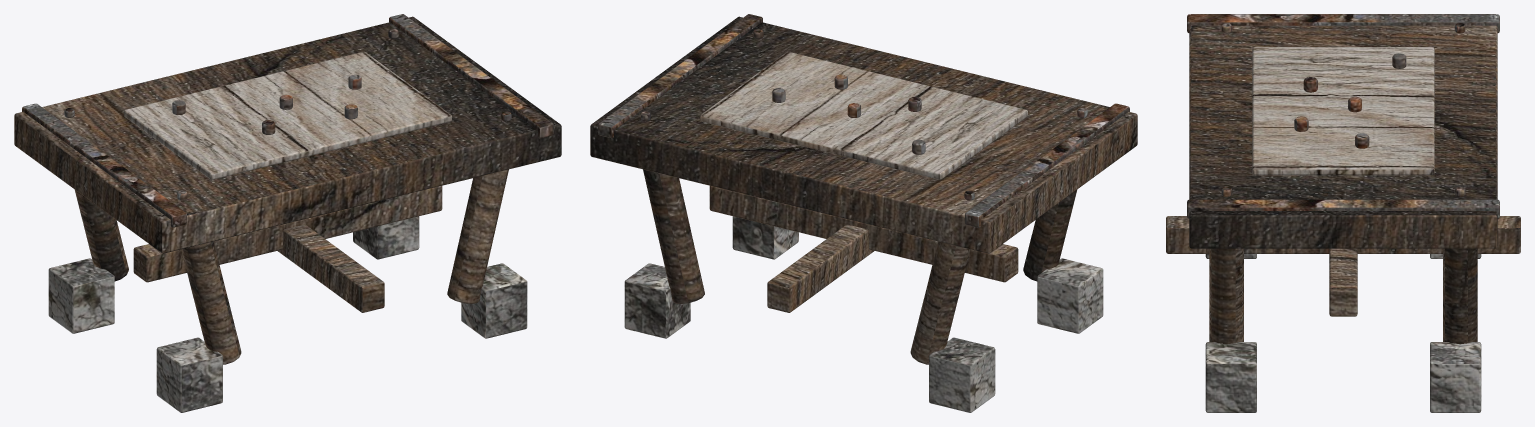
The model's file is watchtower-command-table-v01.glb.
The picture shows the model from 3 angles, left to right: view 1: azimuth 30°, elevation 25°; view 2: azimuth 150°, elevation 25°; view 3: azimuth 270°, elevation 25°; orthographic projection. The views are drawn at different scales.
Parts seen in each view (by area): view 1: watchtower-command-table-v01; view 2: watchtower-command-table-v01; view 3: watchtower-command-table-v01.
Boxes of the visible parts, x1,y1,x2,y2 form: watchtower-command-table-v01: (14, 14, 561, 412); watchtower-command-table-v01: (590, 14, 1137, 412); watchtower-command-table-v01: (1166, 14, 1520, 412).
Bounding box in the file's own units: 2.05 × 1.08 × 1.52.
Materials: 4 (4 with a texture image).
